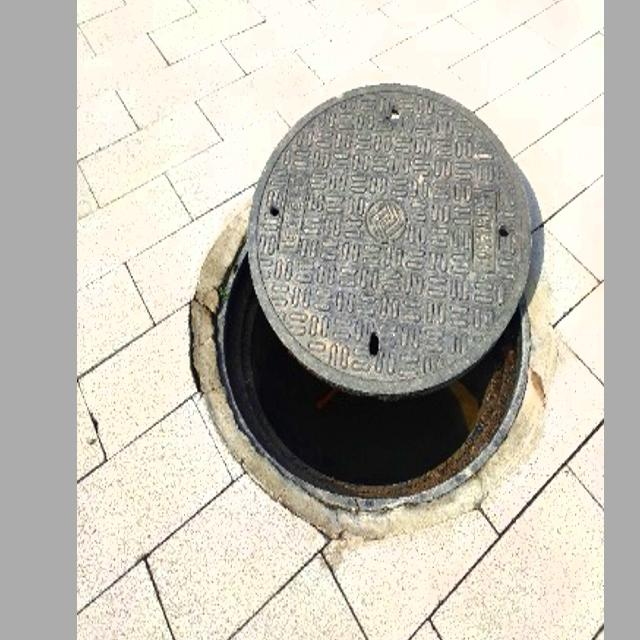uncovered: (214, 83, 531, 504)
